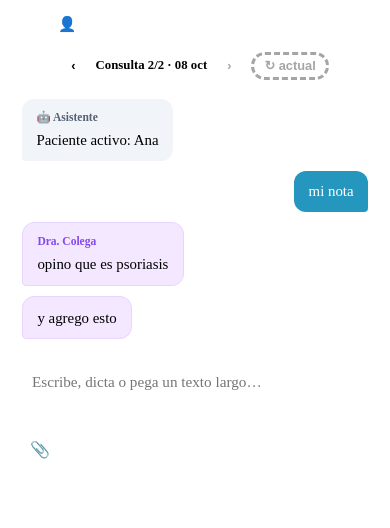
Test: IntakeChat — enviar › si el envío falla muestra el error y quita el eco
In the text box with placeholder "Escribe, dicta o pega un texto largo…": (195, 392) [20,363,370,421], type "se pierde"
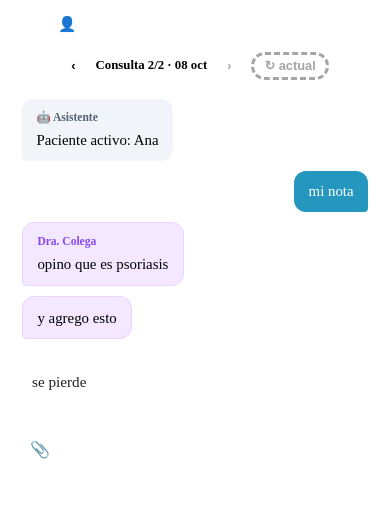
Submit the form with class "icomposer", box [8,353,382,479]
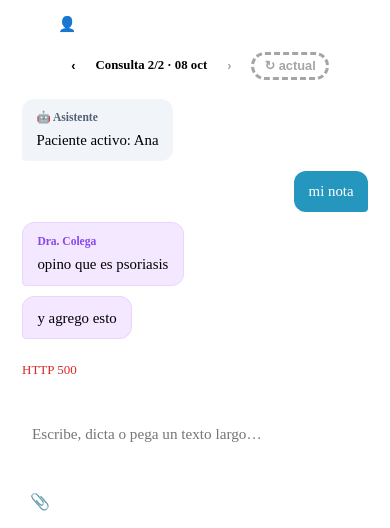
expect the text "se pierde" is not shown: met
expect the text with class "ierror" reads "HTTP 500": met, box [22,362,77,377]
